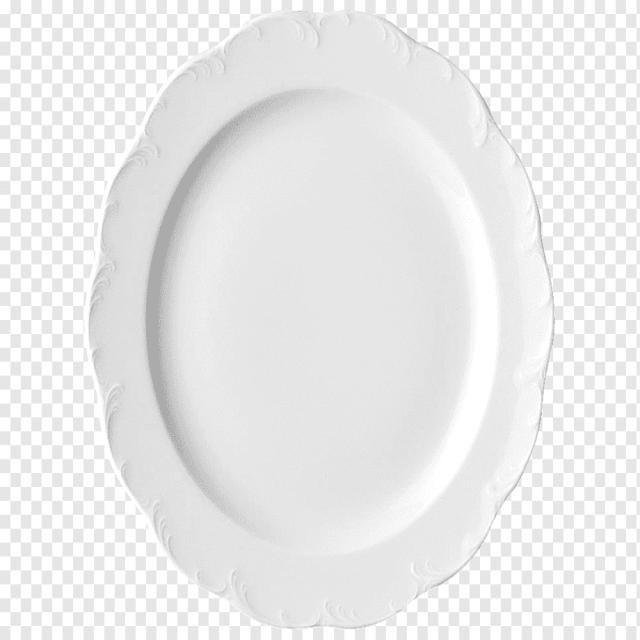Piring: (70, 12, 582, 620)
